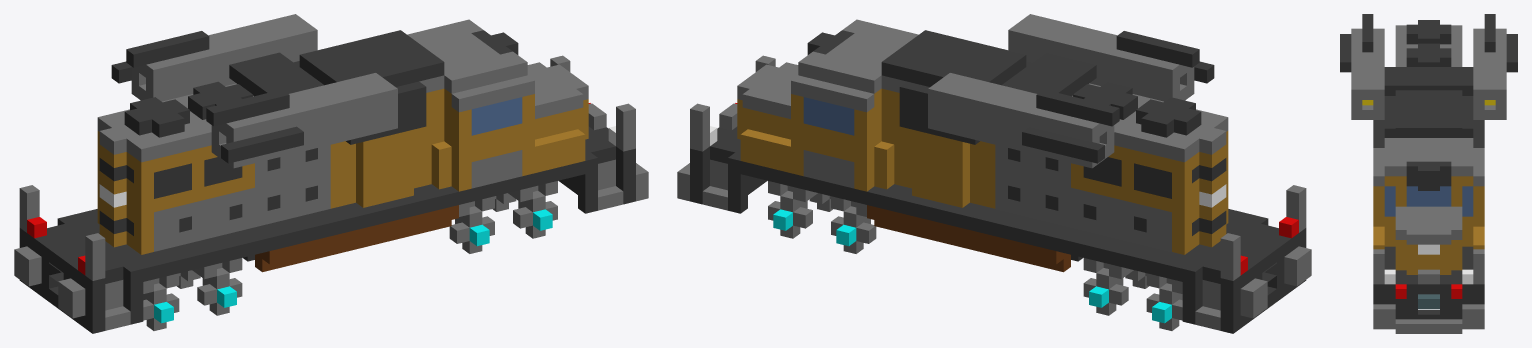
File: Train.fbx
The picture shows the model from 3 angles, left to right: view 1: azimuth 30°, elevation 25°; view 2: azimuth 150°, elevation 25°; view 3: azimuth 270°, elevation 25°; orthographic projection. The views are drawn at different scales.
Parts seen in each view (by area): view 1: Train; view 2: Train; view 3: Train.
Boxes of the visible parts, left/top/right/bottom form: Train: left=14, top=14, right=648, bottom=333; Train: left=677, top=14, right=1311, bottom=333; Train: left=1340, top=14, right=1517, bottom=333.
Bounding box in the file's own units: 4.6 × 1.7 × 1.6.
